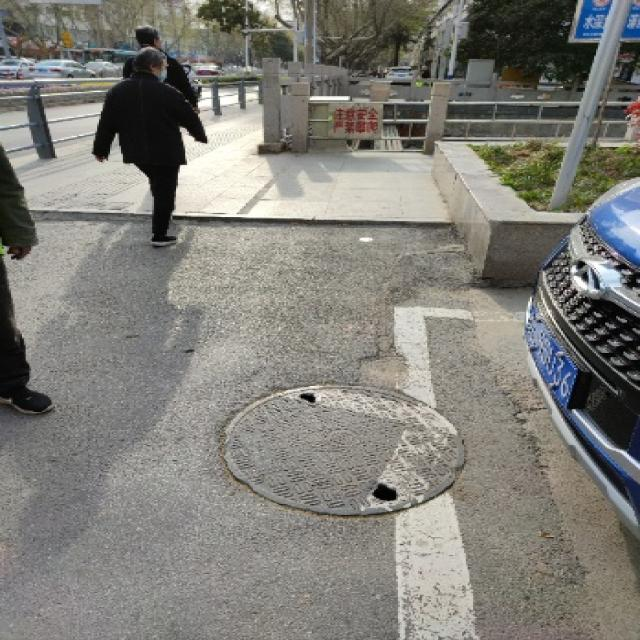Good: (205, 377, 497, 532)
